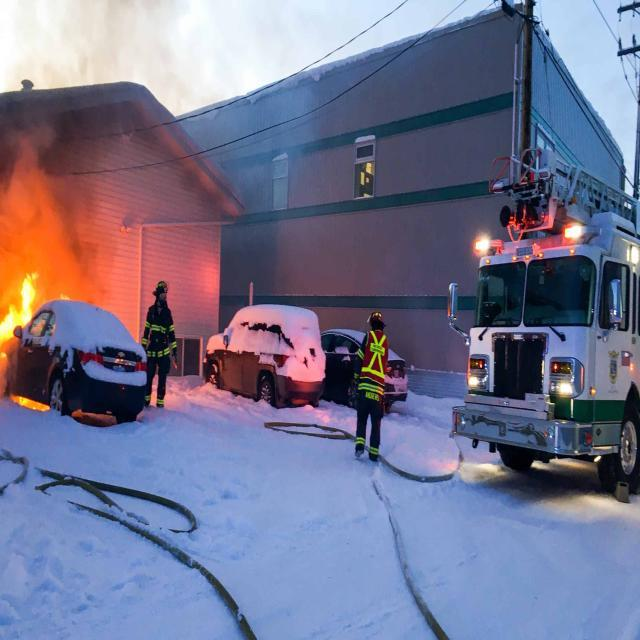Fire: (0, 272, 40, 346), (10, 393, 50, 412)
Smoke: (0, 0, 138, 300)
